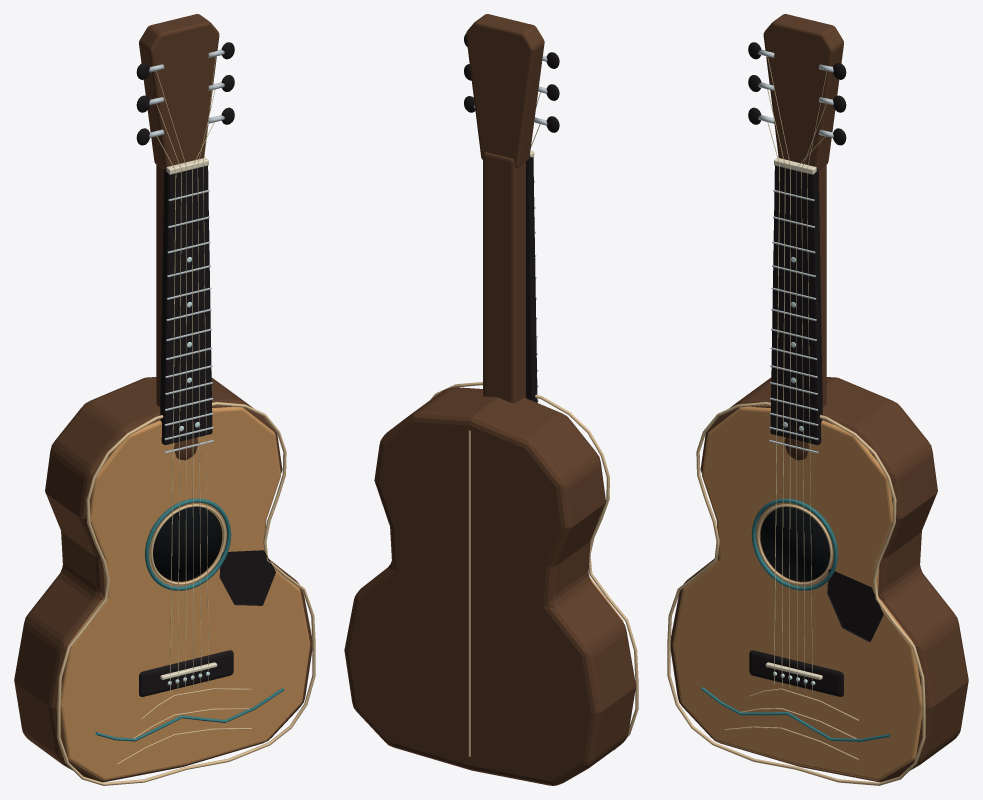
Rendered from rashin-driftwood-dreadnought-hero.glb.
3 renders of one model, left to right at view 1: azimuth 30°, elevation 25°; view 2: azimuth 150°, elevation 25°; view 3: azimuth 330°, elevation 25°, orthographic. The views are drawn at different scales.
Parts seen in each view (by area): view 1: driftwood_bookmatched_top, driftwood_body_shell, driftwood_fingerboard, driftwood_headstock, driftwood_front_binding, driftwood_soundhole_shadow, driftwood_tide_pickguard, driftwood_bridge, driftwood_neck_core, driftwood_rosette_outer, driftwood_rosette_inner, driftwood_course_1_string_0 (+6 smaller); view 2: driftwood_body_shell, driftwood_neck_core, driftwood_headstock, driftwood_fingerboard, driftwood_front_binding, driftwood_back_center_seam; view 3: driftwood_bookmatched_top, driftwood_body_shell, driftwood_fingerboard, driftwood_headstock, driftwood_front_binding, driftwood_soundhole_shadow, driftwood_tide_pickguard, driftwood_bridge, driftwood_neck_core, driftwood_rosette_outer, driftwood_course_1_string_0, driftwood_course_2_string_0 (+6 smaller).
Boxes of the visible parts, <box> form: driftwood_bookmatched_top: <box>60,406,310,780</box>; driftwood_body_shell: <box>14,377,312,782</box>; driftwood_fingerboard: <box>160,165,212,444</box>; driftwood_headstock: <box>139,14,219,169</box>; driftwood_front_binding: <box>57,402,315,785</box>; driftwood_soundhole_shadow: <box>153,506,222,581</box>; driftwood_tide_pickguard: <box>219,550,275,605</box>; driftwood_bridge: <box>139,650,233,696</box>; driftwood_neck_core: <box>156,164,164,406</box>; driftwood_rosette_outer: <box>145,498,231,590</box>; driftwood_rosette_inner: <box>150,504,225,585</box>; driftwood_course_1_string_0: <box>156,103,181,691</box>; driftwood_body_shell: <box>344,387,635,785</box>; driftwood_neck_core: <box>483,152,525,403</box>; driftwood_headstock: <box>466,14,544,167</box>; driftwood_fingerboard: <box>526,156,537,402</box>; driftwood_front_binding: <box>430,382,638,749</box>; driftwood_back_center_seam: <box>468,430,470,756</box>; driftwood_bookmatched_top: <box>672,406,922,780</box>; driftwood_body_shell: <box>670,377,968,782</box>; driftwood_fingerboard: <box>770,165,822,444</box>; driftwood_headstock: <box>763,14,843,169</box>; driftwood_front_binding: <box>667,402,925,785</box>; driftwood_soundhole_shadow: <box>760,506,829,581</box>; driftwood_tide_pickguard: <box>827,569,883,642</box>; driftwood_bridge: <box>749,650,843,696</box>; driftwood_neck_core: <box>818,164,826,406</box>; driftwood_rosette_outer: <box>751,498,837,590</box>; driftwood_course_1_string_0: <box>767,89,785,686</box>; driftwood_course_2_string_0: <box>767,56,790,687</box>.
Bounding box in the file's own units: 0.394 × 1.07 × 0.1241.
